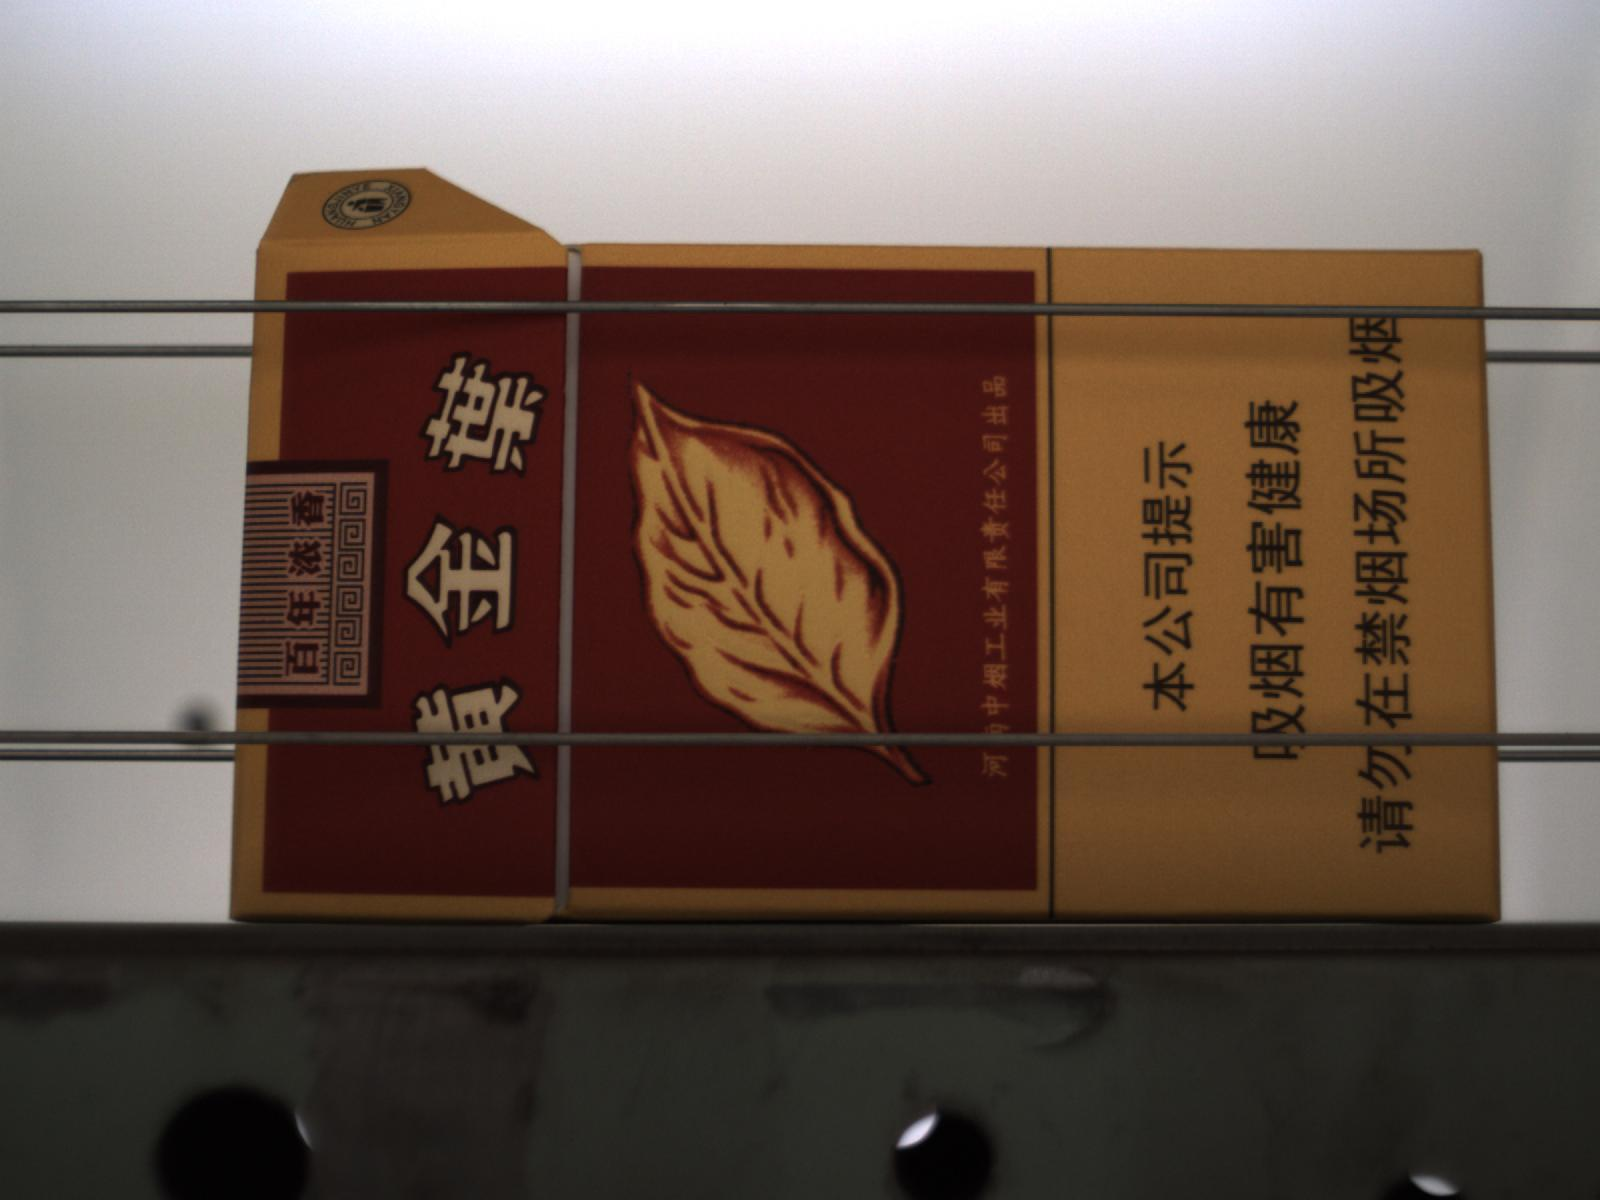headUpwarp_upper_01: (261, 166, 565, 247)
